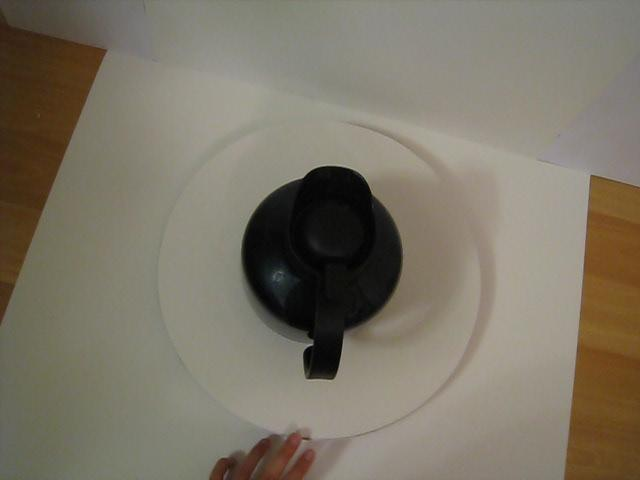pitcher: (234, 154, 409, 390)
